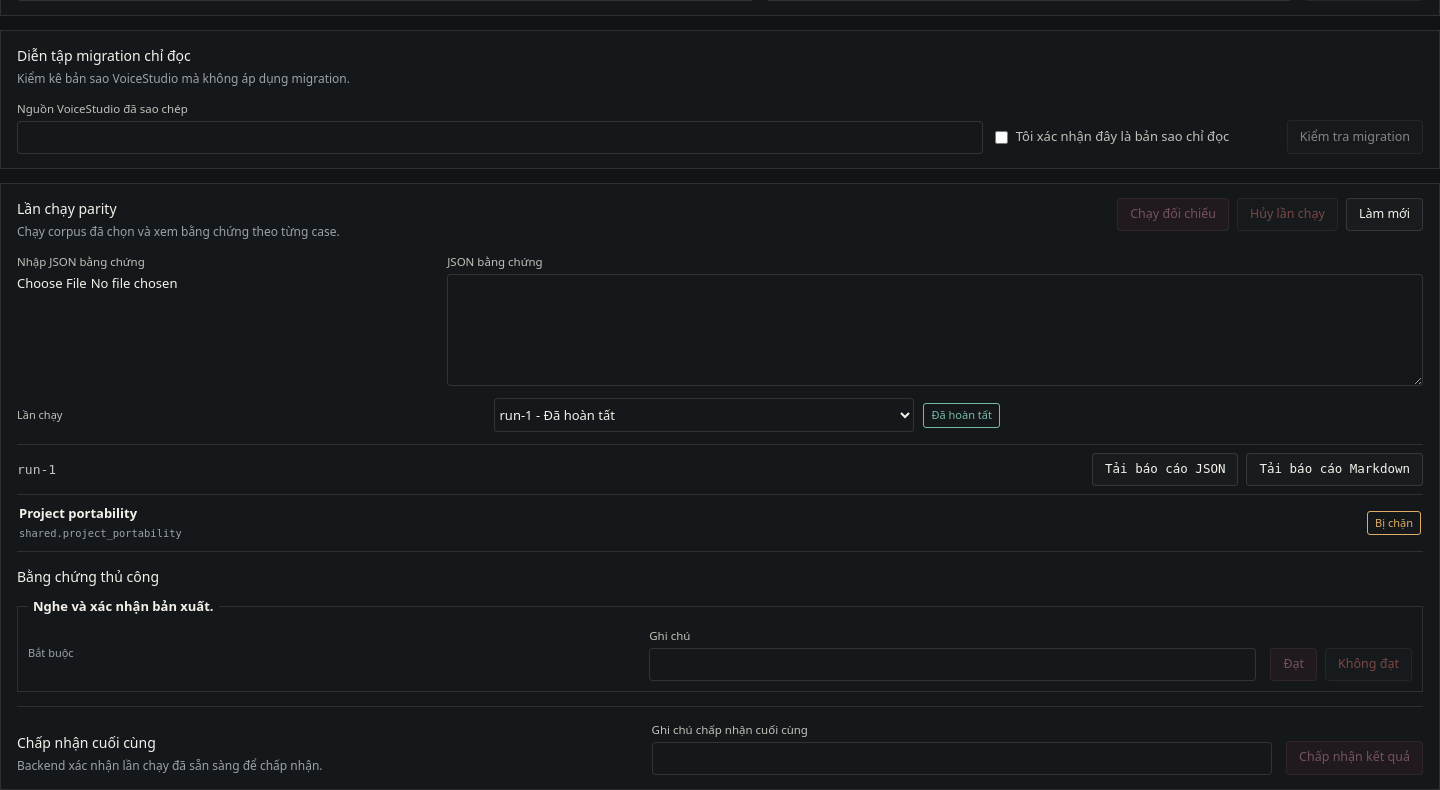
Test case: ParityPage › serializes manual evidence and blocks acceptance while it is pending
This screenshot has width=1440, height=790.
(page scrolled)
Type "Đang kiểm tra." into the field labelled "Ghi chú" at (953, 664), box [649,648,1256,681]
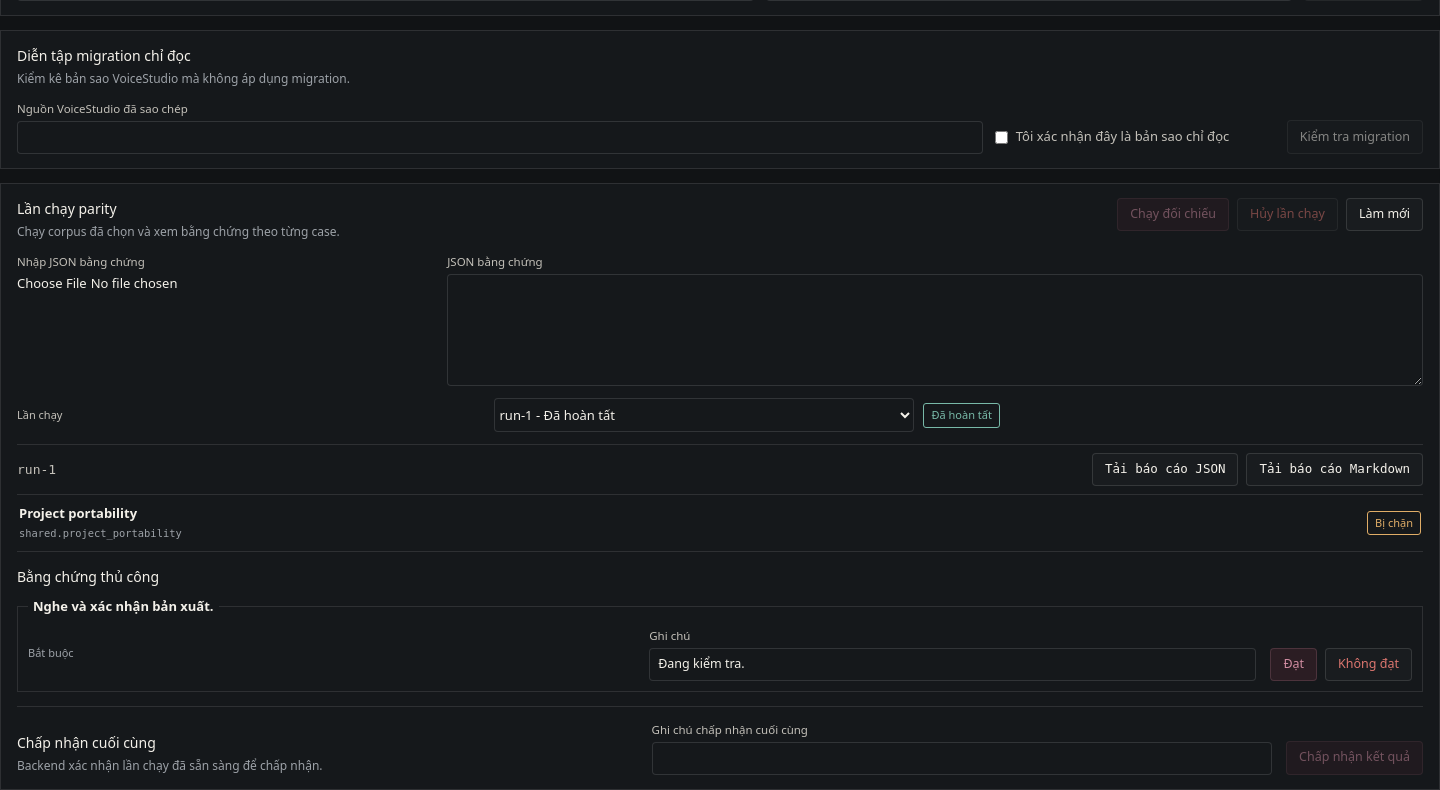
Type "Chấp nhận sau khi lưu." into the field labelled "Ghi chú chấp nhận cuối cùng" at (962, 758), box [652,742,1272,775]
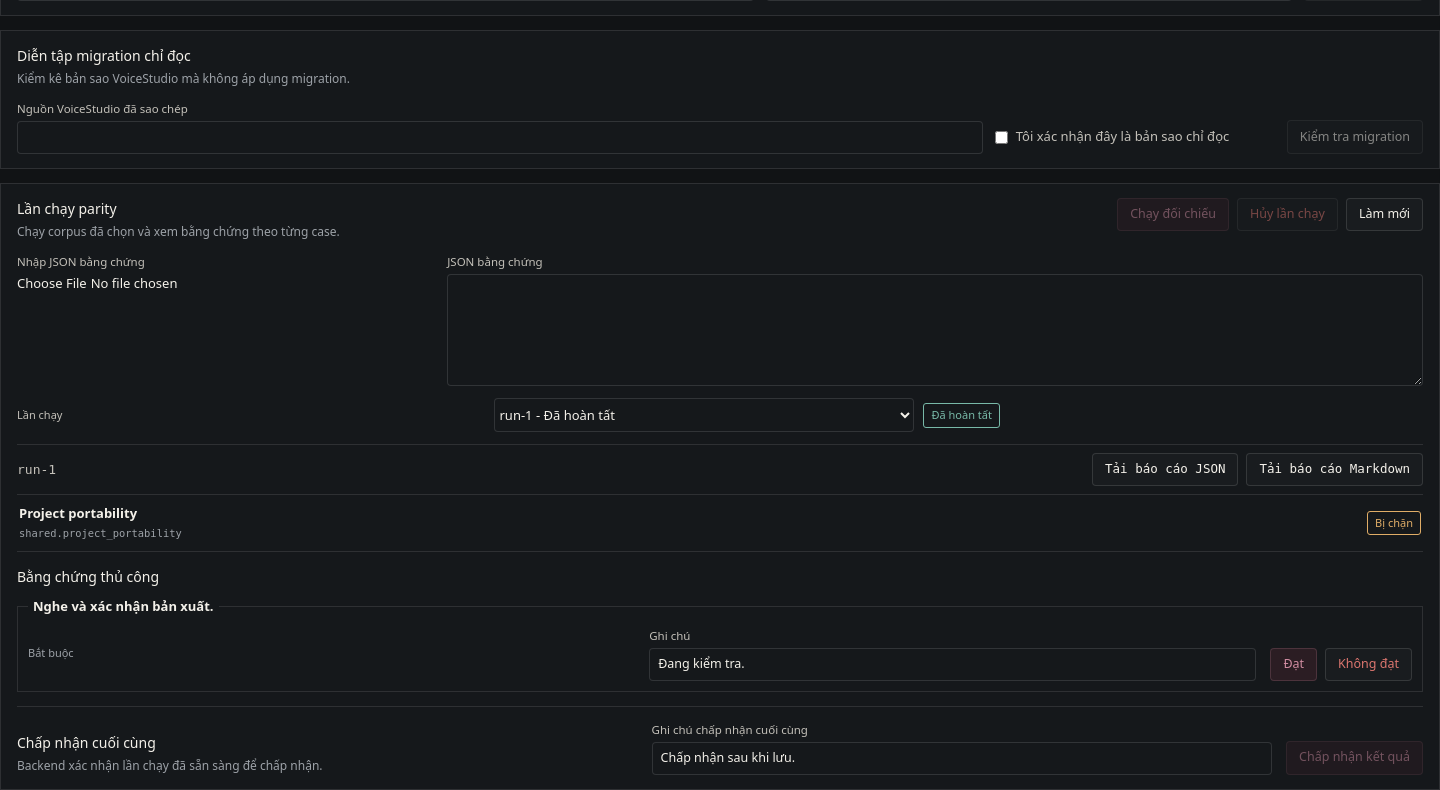
Click the button "Đạt" at (1294, 664), box [1270,648,1317,681]
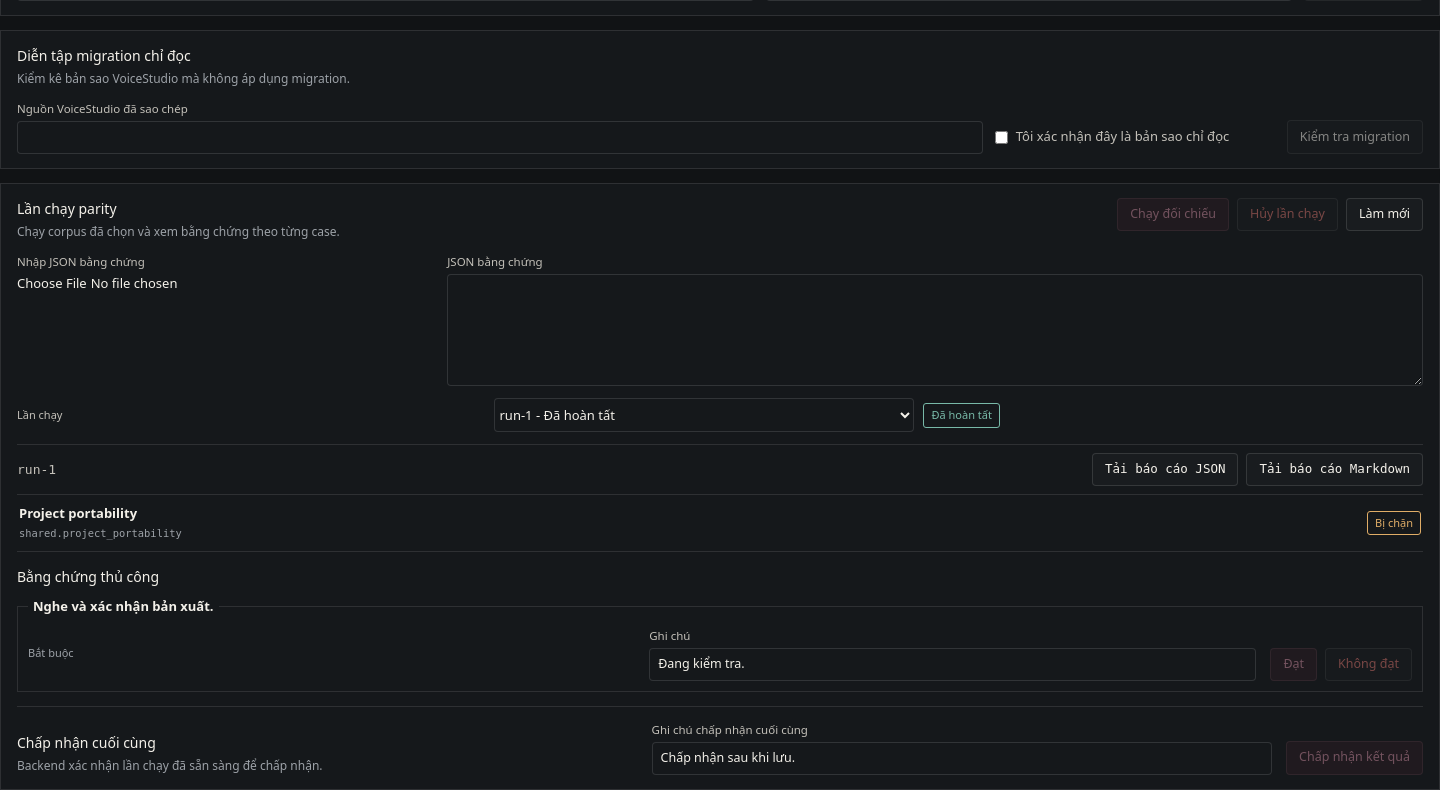
Expected: the button "Chấp nhận kết quả" is disabled, [1286,740,1423,774]
Expected: the button "Đạt" is disabled, [1270,648,1317,681]
Expected: the button "Không đạt" is disabled
Click the button "Không đạt" at (1369, 664), box [1325,648,1412,681]
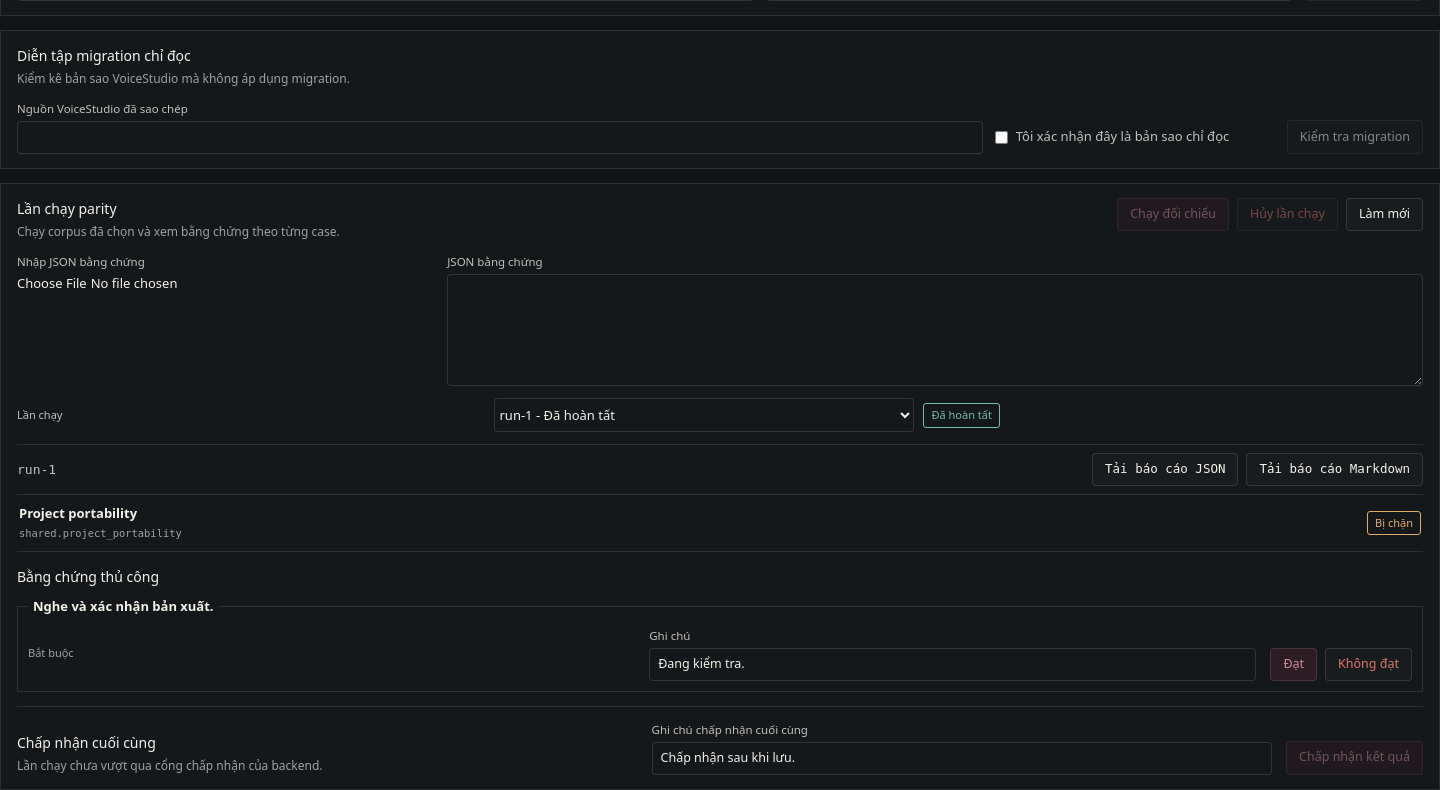
Expected: the button "Đạt" is enabled, [1270,648,1317,681]
